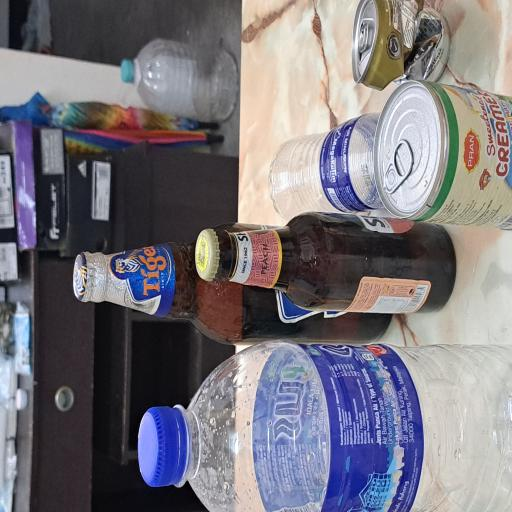can: (318, 468, 384, 512)
glass bottle: (130, 93, 204, 512), (151, 257, 223, 512)
plastic bottle: (0, 182, 126, 512), (222, 355, 298, 509)
plastic bottle cap: (17, 185, 84, 257)
pop tab: (345, 474, 371, 497)
